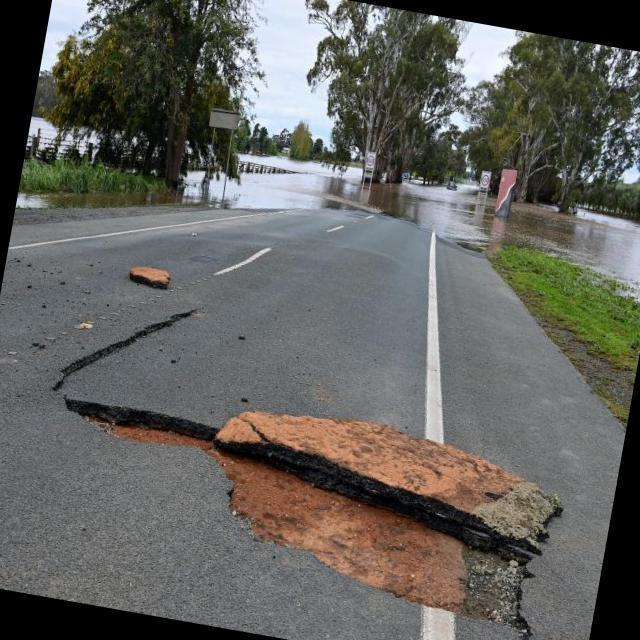Pothole: (69, 402, 560, 637)
